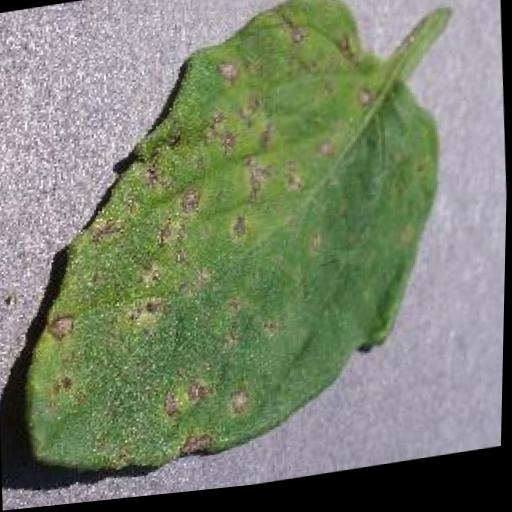Septoria: (5, 0, 454, 482)
